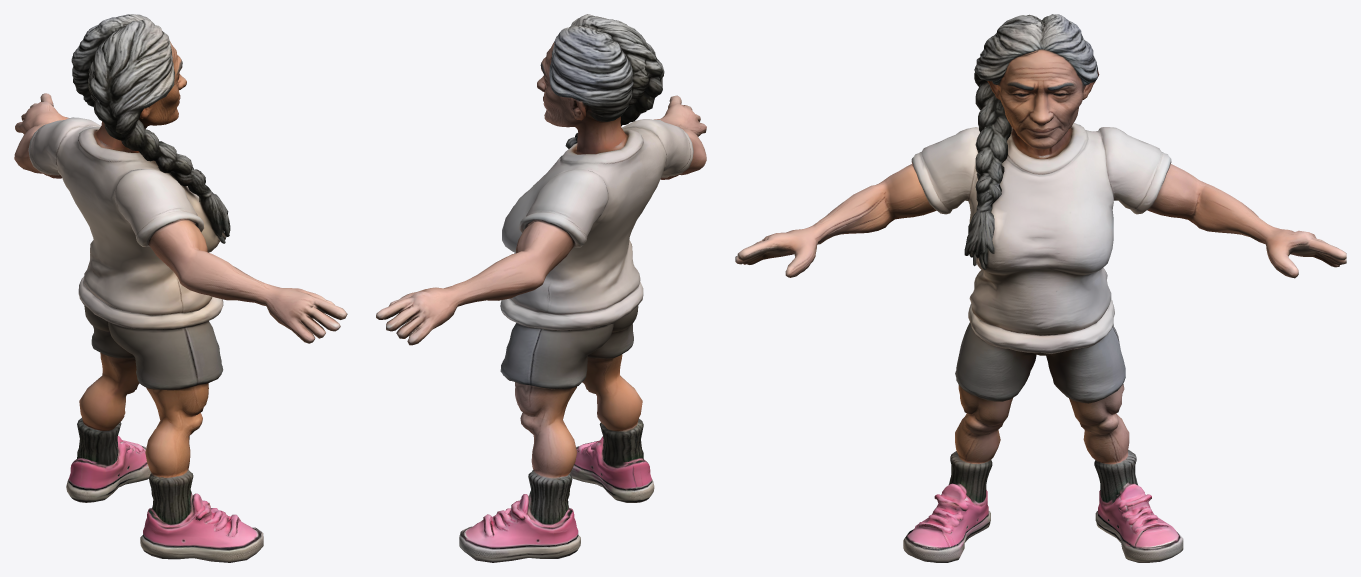
3 renders of one model, left to right at view 1: azimuth 30°, elevation 25°; view 2: azimuth 150°, elevation 25°; view 3: azimuth 270°, elevation 25°, orthographic.
Parts seen in each view (by area): view 1: tripo_node_0f637faa; view 2: tripo_node_0f637faa; view 3: tripo_node_0f637faa.
Part boxes in pixels (x1,y1,x2,y2): tripo_node_0f637faa: (14,14,347,562); tripo_node_0f637faa: (376,14,706,562); tripo_node_0f637faa: (735,14,1346,562).
Bounding box in the file's own units: 25.24 × 91.98 × 99.61.
1 material, 1 textured.
